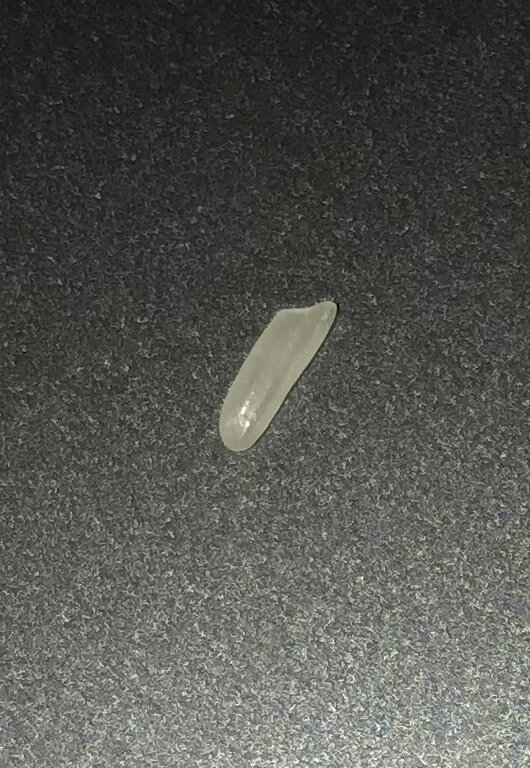Gao Long Lai: (216, 297, 341, 460)
